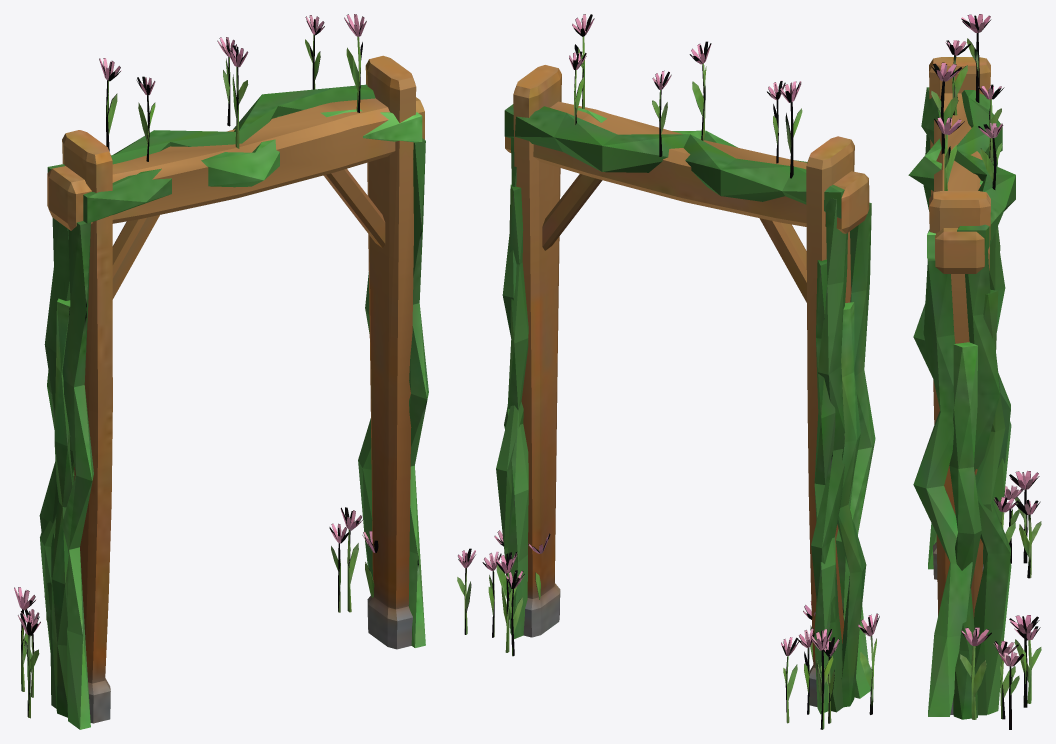
Rendered from arch_vines_low.glb.
3 renders of one model, left to right at view 1: azimuth 30°, elevation 25°; view 2: azimuth 150°, elevation 25°; view 3: azimuth 270°, elevation 25°, orthographic. The views are drawn at different scales.
Visible parts, largest first — view 1: arch_vines_low; view 2: arch_vines_low; view 3: arch_vines_low.
Boxes of the visible parts, x1,y1,x2,y2 form: arch_vines_low: [14, 14, 428, 729]; arch_vines_low: [457, 14, 879, 729]; arch_vines_low: [908, 14, 1041, 729].
Bounding box in the file's own units: 1.45 × 2.14 × 0.45.
Materials: 1 (1 with a texture image).
